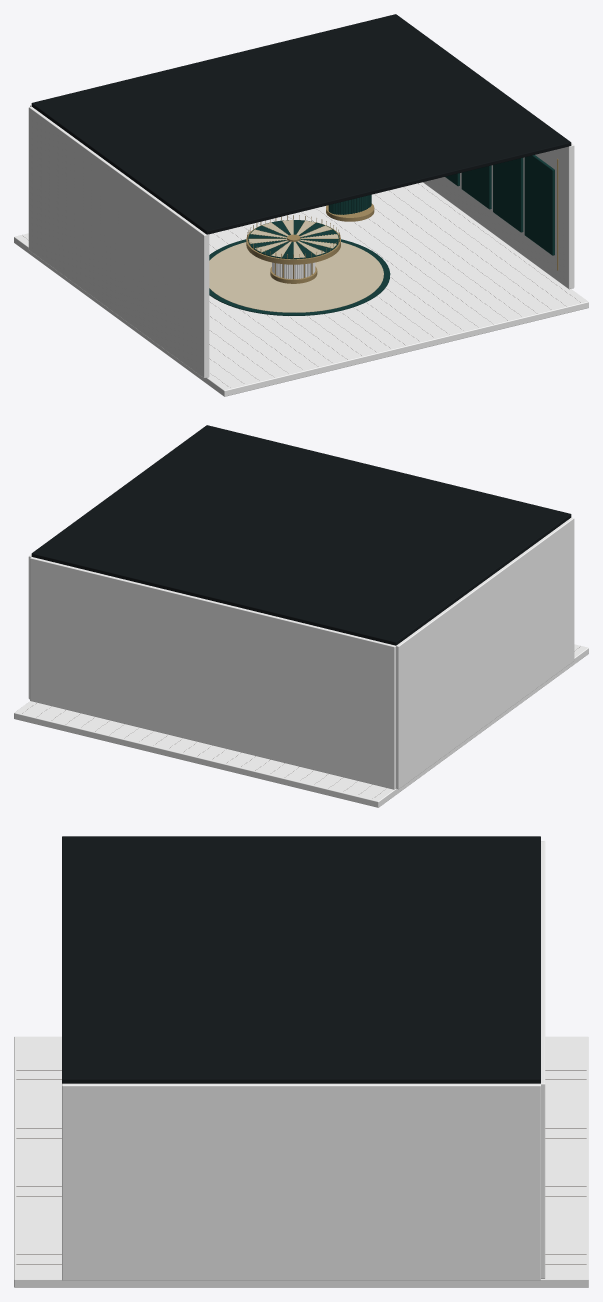
Rendered from Studio_v4_web.glb.
3 views of the same model, one above another, from view 1: azimuth 30°, elevation 25°; view 2: azimuth 150°, elevation 25°; view 3: azimuth 270°, elevation 25° (orthographic). The views are drawn at different scales.
Visible parts, largest first — view 1: Ceiling, Floor, Side_wall_-1, Rug_inset, Side_wall_1, Upholstered_panel_1_4, Upholstered_panel_1_3, Rug_border, Upholstered_panel_1_2, Wheel_rim; view 2: Ceiling, Rear_wall, Side_wall_-1, Floor; view 3: Ceiling, Side_wall_1, Floor, Rear_wall.
Boxes of the visible parts, x1,y1,x2,y2 form: Ceiling: (31, 14, 571, 234); Floor: (14, 182, 588, 396); Side_wall_-1: (28, 106, 209, 378); Rug_inset: (209, 242, 383, 312); Side_wall_1: (423, 143, 574, 289); Upholstered_panel_1_4: (524, 155, 554, 255); Upholstered_panel_1_3: (493, 158, 523, 232); Rug_border: (209, 239, 390, 315); Upholstered_panel_1_2: (461, 165, 491, 209); Wheel_rim: (246, 221, 340, 264); Ceiling: (31, 425, 571, 645); Rear_wall: (30, 557, 395, 789); Side_wall_-1: (396, 517, 574, 789); Floor: (14, 644, 588, 807); Ceiling: (62, 836, 540, 1083); Side_wall_1: (62, 1083, 540, 1280); Floor: (14, 1036, 588, 1287); Rear_wall: (541, 841, 545, 1278).
Bounding box in the file's own units: 12.18 × 4.81 × 12.
